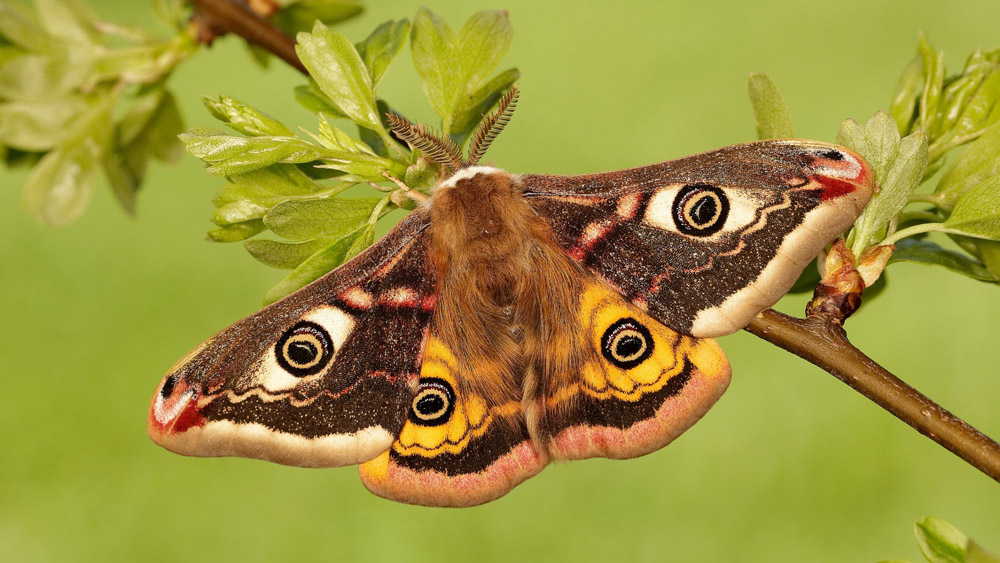feie: (156, 136, 876, 497)
